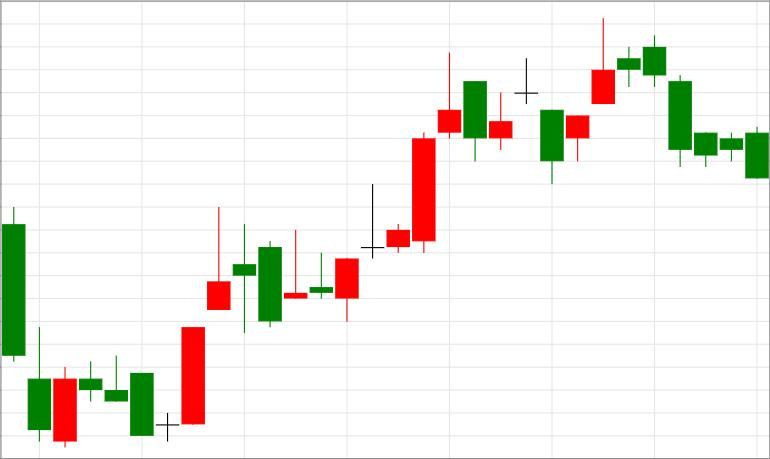evening_star_fall: (336, 52, 563, 322)
shooting_star_fall: (336, 52, 461, 323), (130, 207, 231, 442)
